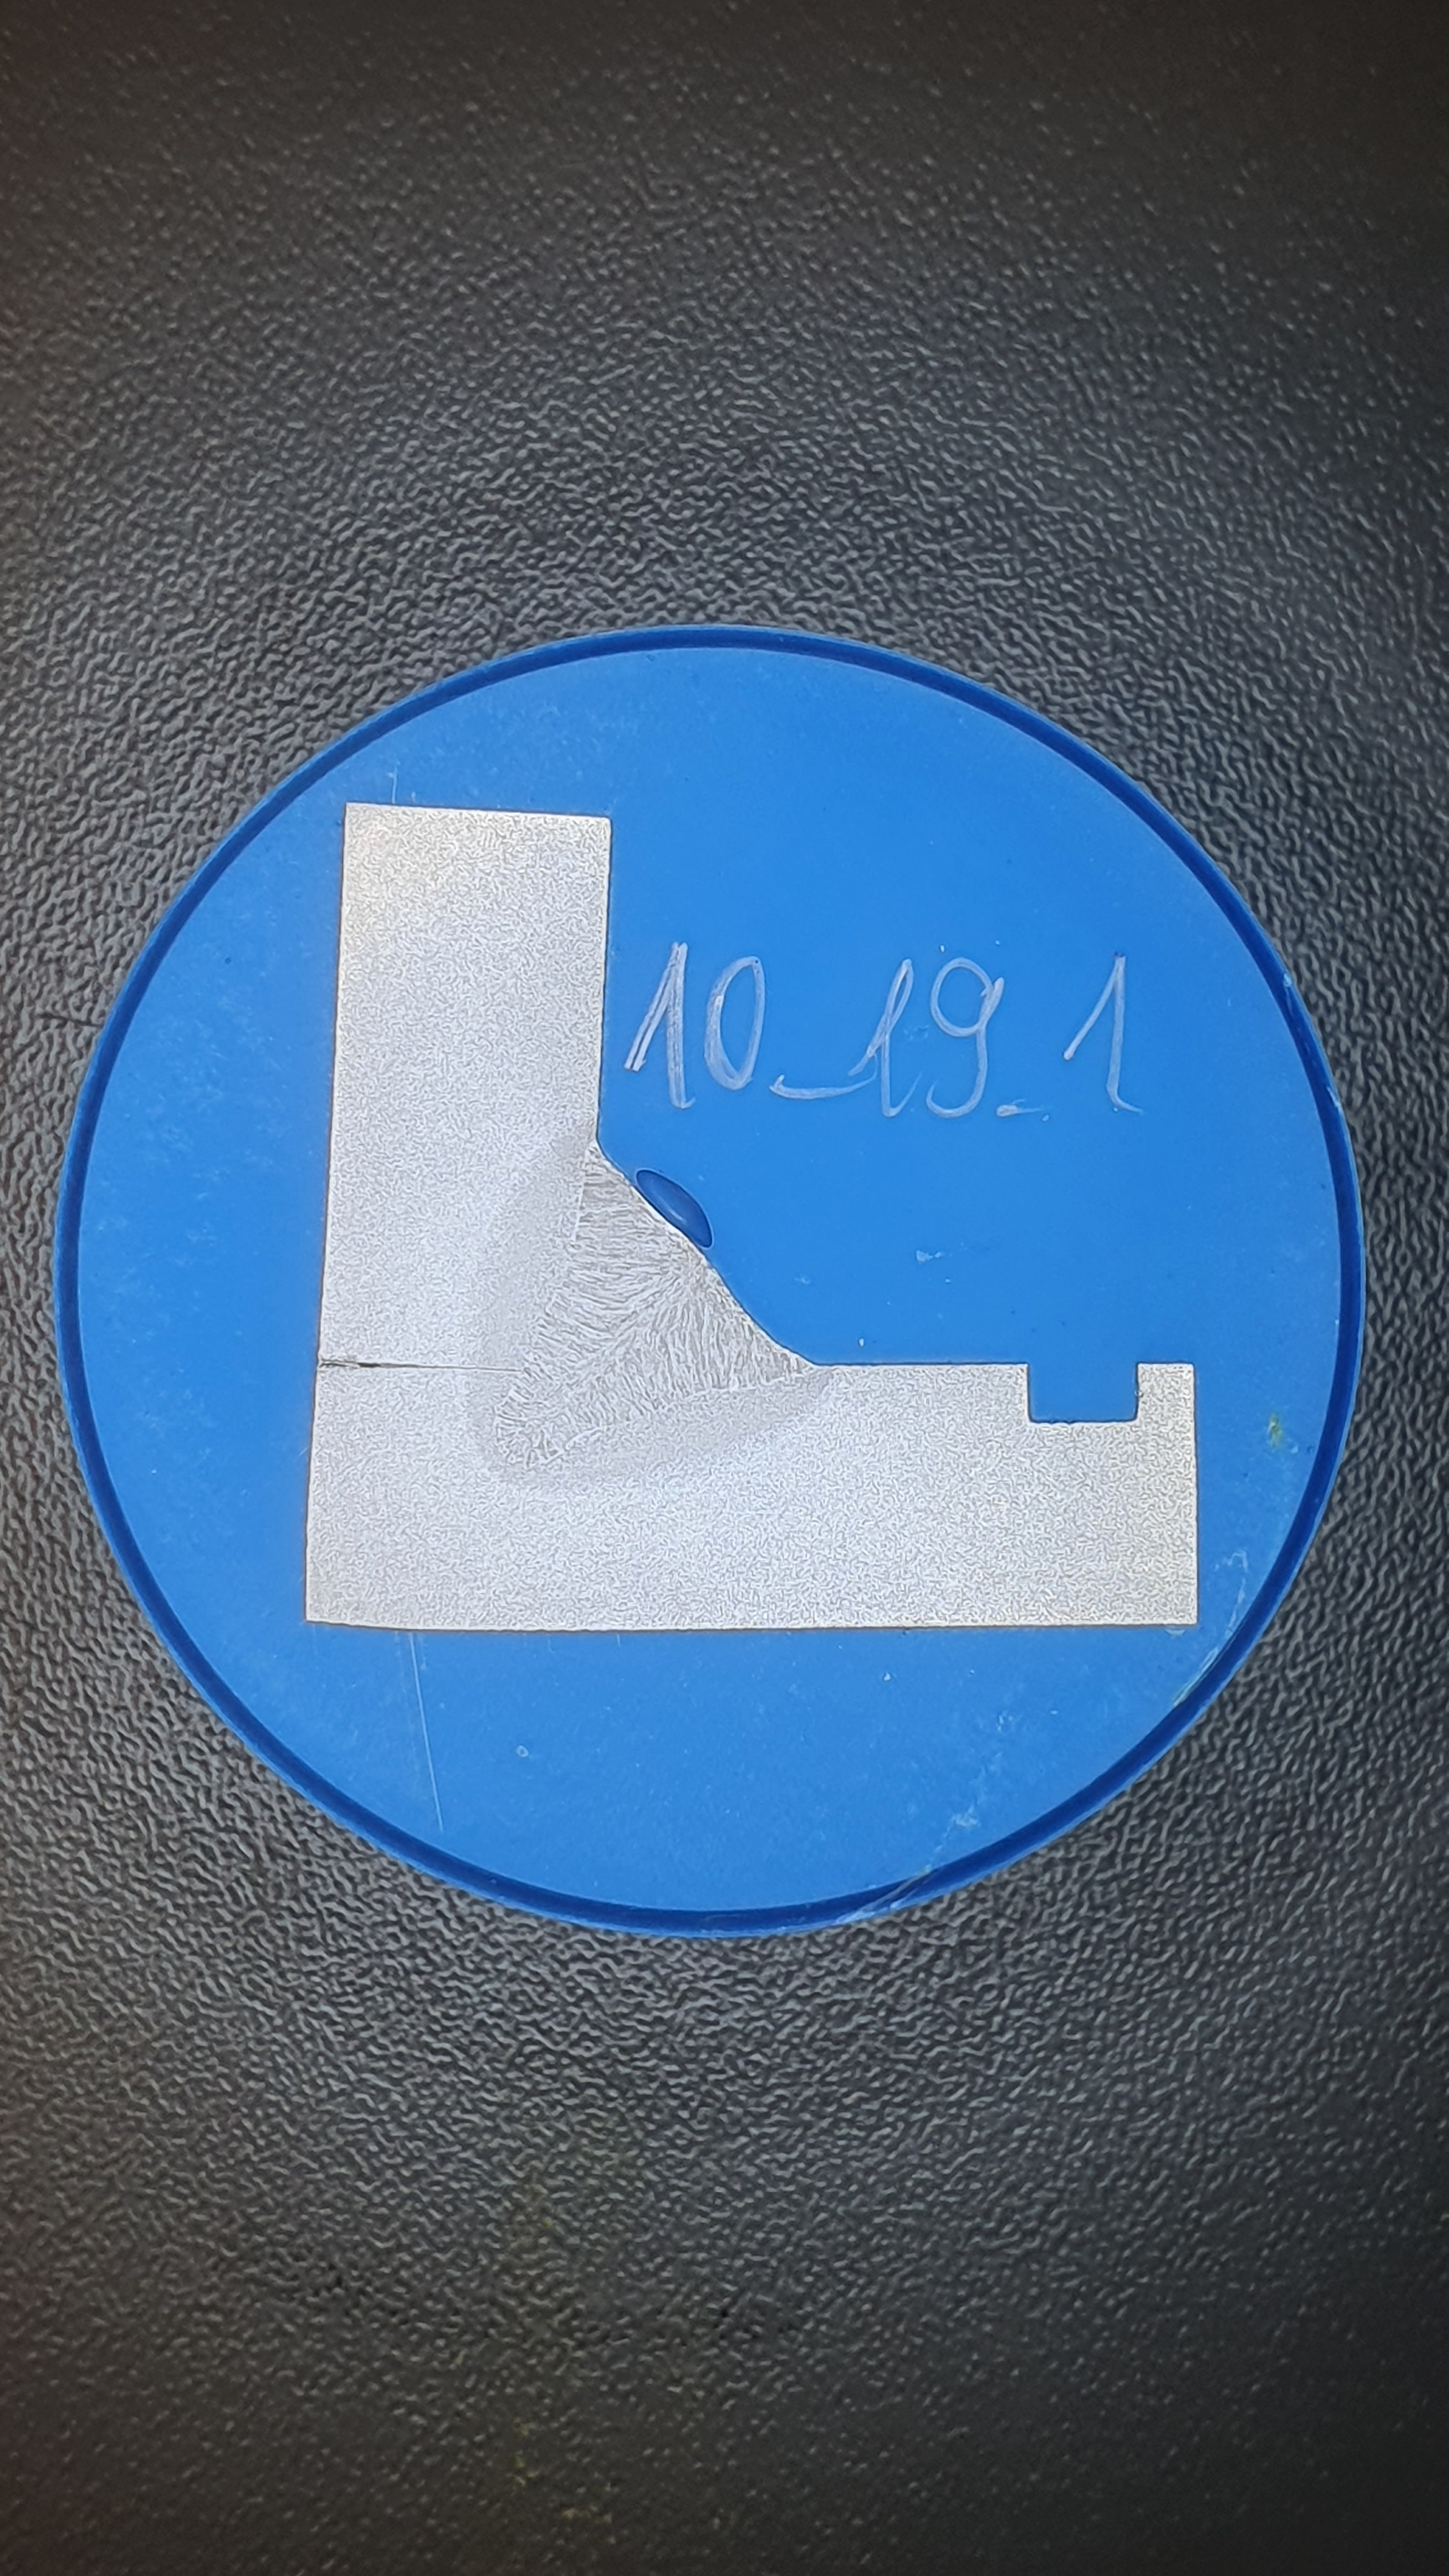Fusion: (492, 1138, 810, 1467)
Hintergrund: (78, 648, 1338, 1911)
Metall: (304, 801, 1198, 1633)
Nebenbereich: (460, 1118, 840, 1490)
